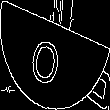O_N: (36, 24, 74, 86)
